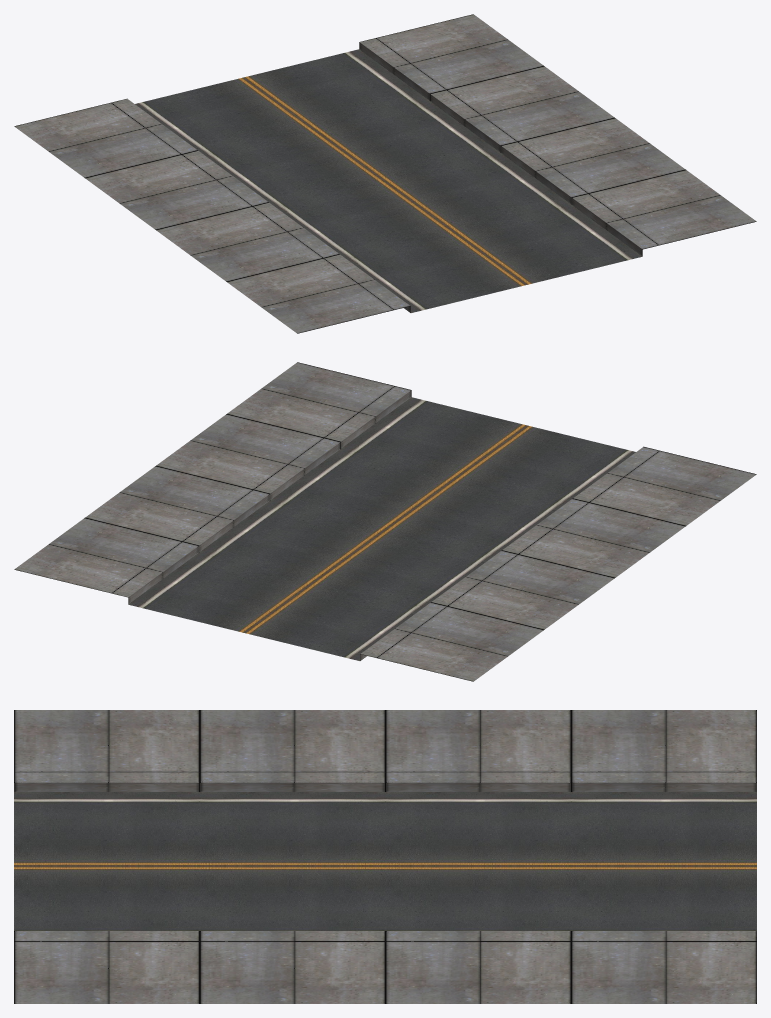
File: square1.glb
The picture shows the model from 3 angles, top to bottom: view 1: azimuth 30°, elevation 25°; view 2: azimuth 150°, elevation 25°; view 3: azimuth 270°, elevation 25°; orthographic projection. The views are drawn at different scales.
Visible parts, largest first — view 1: Object_2, Object_3; view 2: Object_2, Object_3; view 3: Object_2, Object_3.
Boxes of the visible parts, x1=… form: Object_2: x1=14, y1=14, x2=756, y2=333; Object_3: x1=135, y1=49, x2=642, y2=312; Object_2: x1=14, y1=362, x2=756, y2=681; Object_3: x1=128, y1=397, x2=635, y2=660; Object_2: x1=14, y1=710, x2=756, y2=1003; Object_3: x1=14, y1=792, x2=756, y2=930.
Bounding box in the file's own units: 7.08 × 0.1054 × 7.57.
2 materials, 2 textured.
